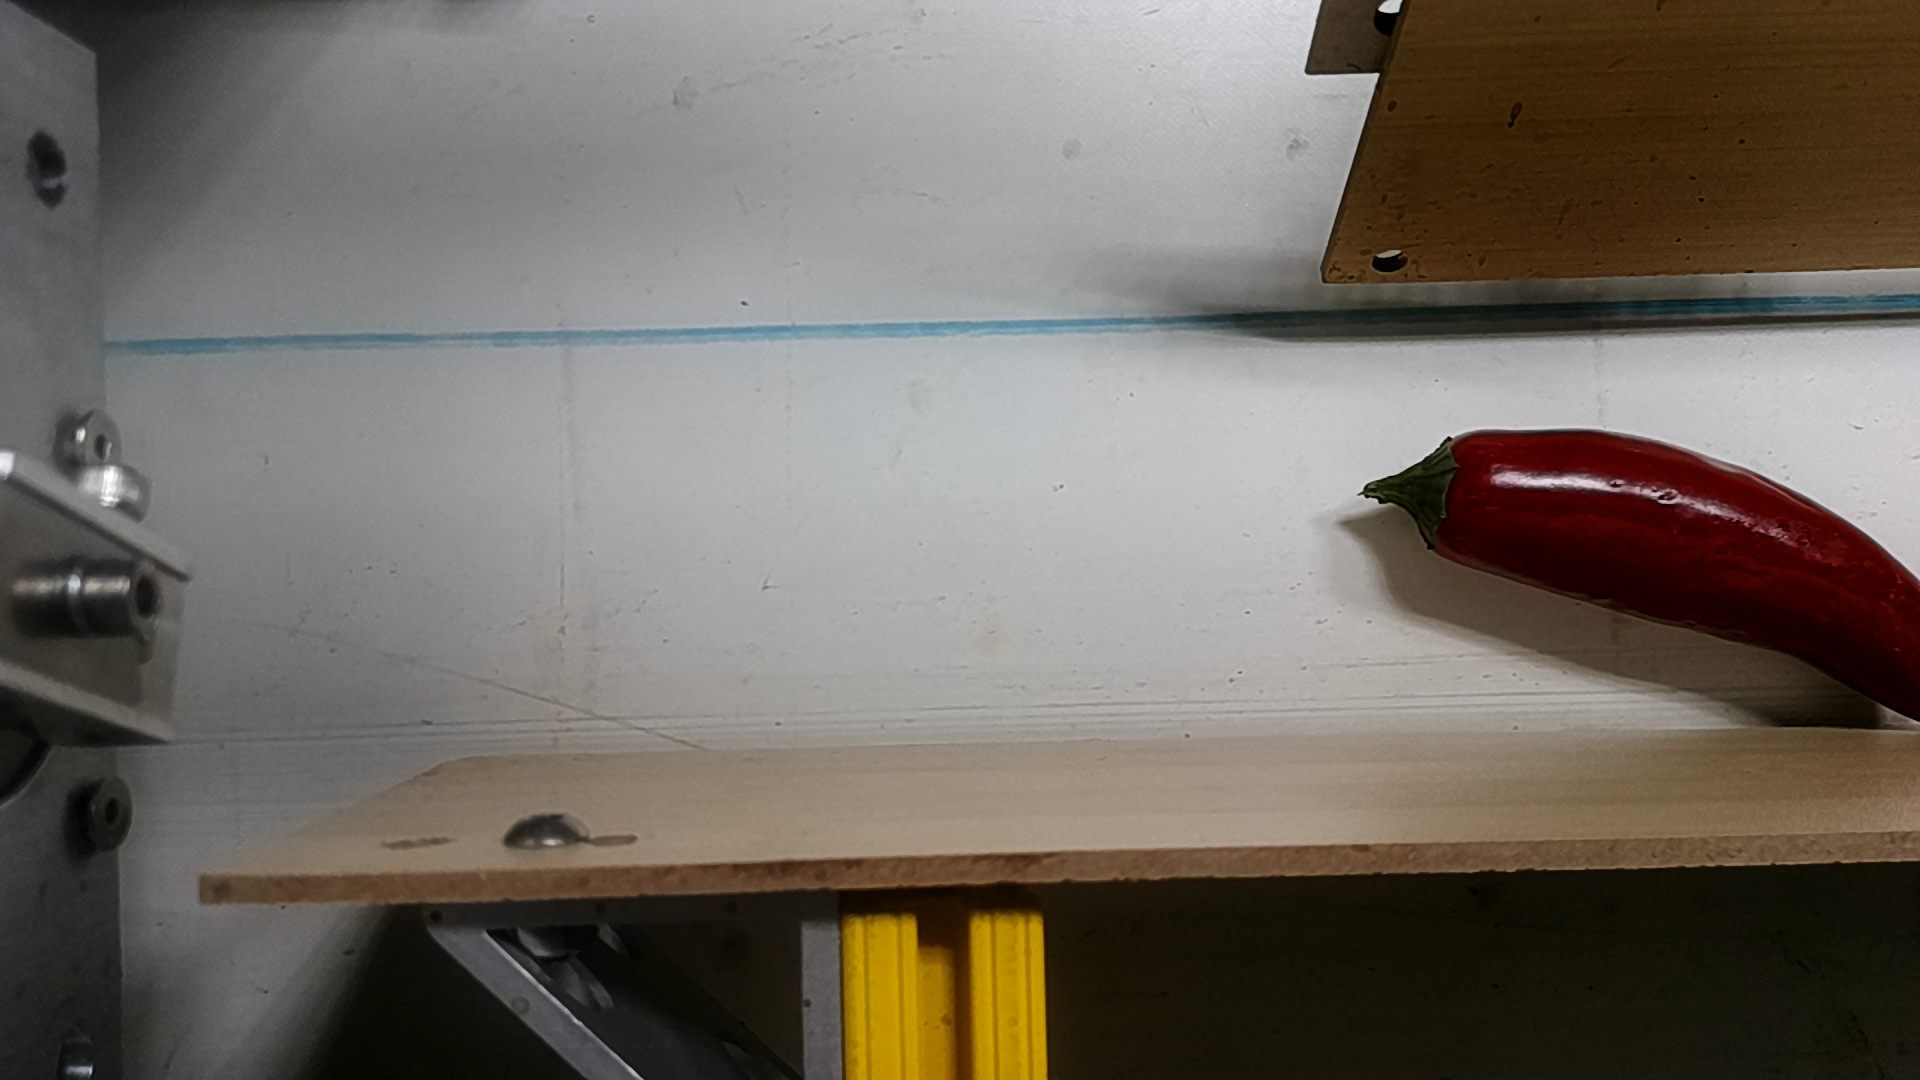Cut Point: (1399, 429, 1507, 567)
